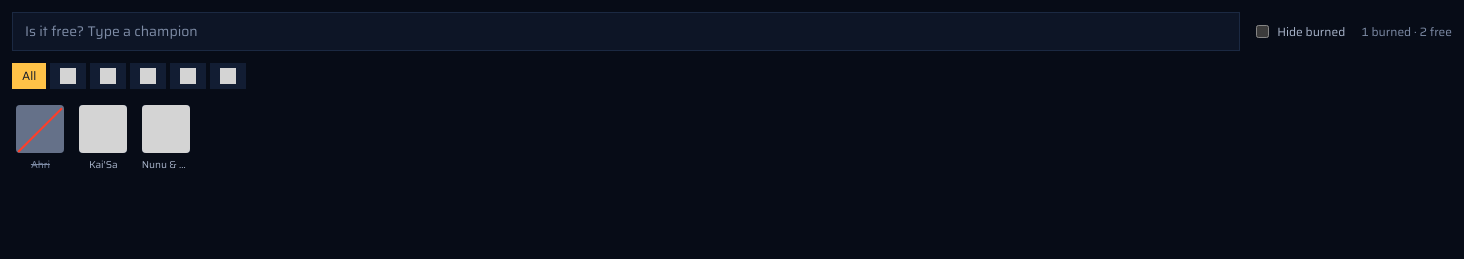
Test case: FearlessGrid › offers the corrections to an admin
Click the button with aria-label "Kai'Sa, free" at (103, 138), box 75,101 -> 132,176
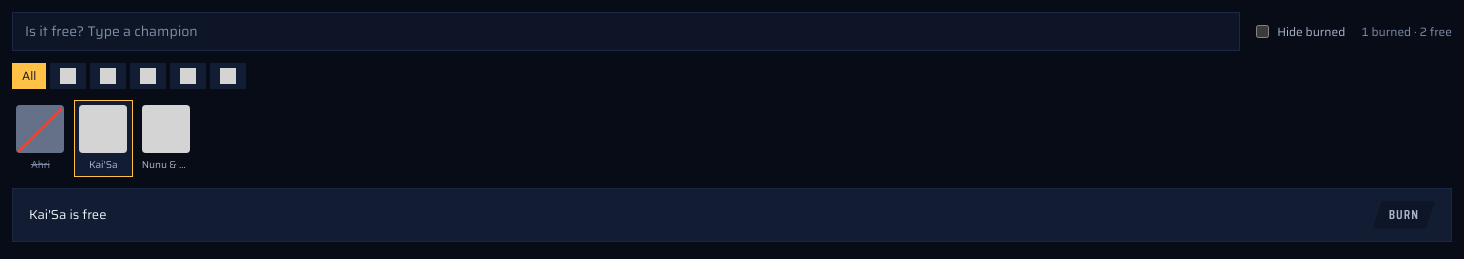
Now the button "Burn" is shown, box 1373,201 -> 1435,228
